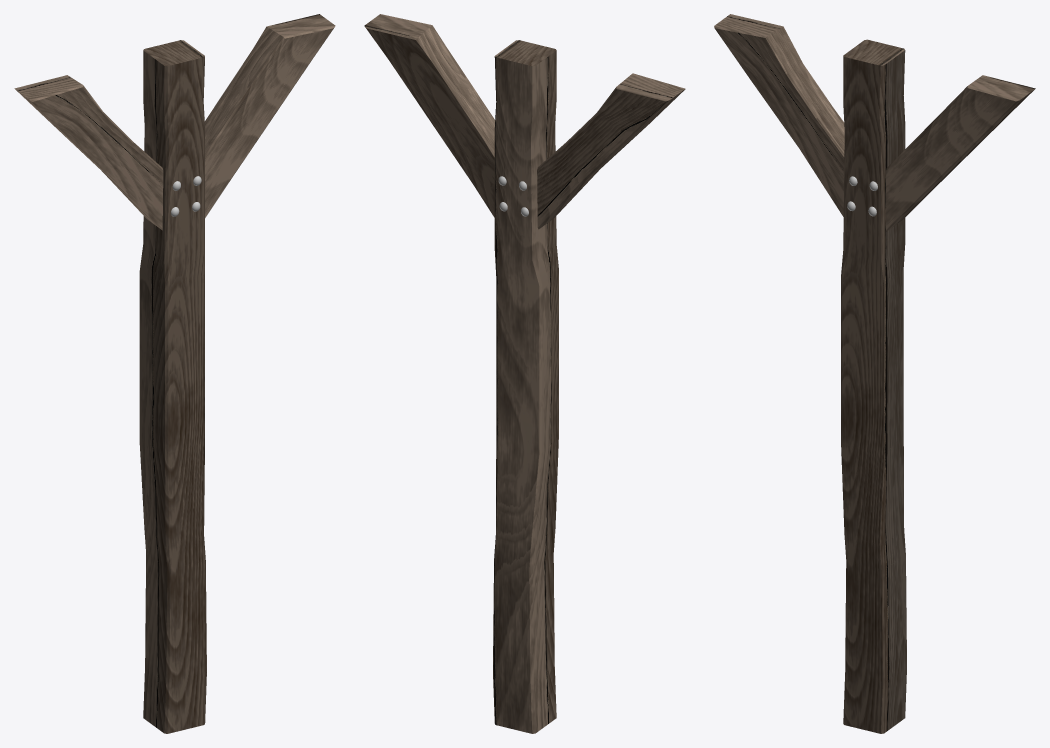
Rendered from SM_BeamY.fbx.
3 renders of one model, left to right at view 1: azimuth 30°, elevation 25°; view 2: azimuth 150°, elevation 25°; view 3: azimuth 330°, elevation 25°, orthographic.
Visible parts, largest first — view 1: SM_BeamY; view 2: SM_BeamY; view 3: SM_BeamY.
Boxes of the visible parts, x1=… form: SM_BeamY: x1=14, y1=14, x2=335, y2=733; SM_BeamY: x1=364, y1=14, x2=685, y2=733; SM_BeamY: x1=714, y1=14, x2=1035, y2=733.
Bounding box in the file's own units: 150 × 313 × 22.66.
